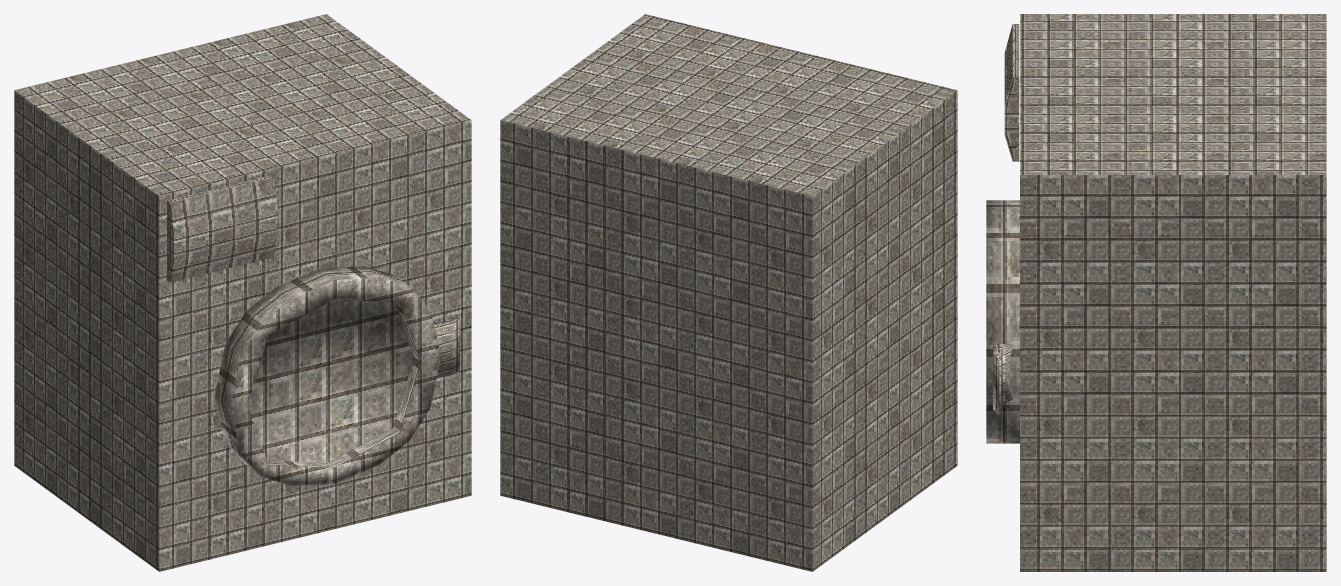
Rendered from WashingMachine.FBX.
3 renders of one model, left to right at view 1: azimuth 30°, elevation 25°; view 2: azimuth 150°, elevation 25°; view 3: azimuth 270°, elevation 25°, orthographic. The views are drawn at different scales.
Visible parts, largest first — view 1: WashingMachine; view 2: WashingMachine; view 3: WashingMachine.
Boxes of the visible parts, box(x1,y1,x2,y2) form: WashingMachine: box(14, 14, 471, 571); WashingMachine: box(500, 14, 957, 571); WashingMachine: box(986, 14, 1326, 571).
Bounding box in the file's own units: 2.27 × 2.02 × 2.6.
1 material, 1 textured.
